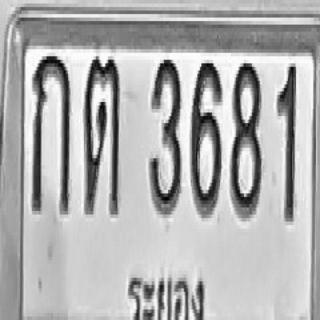A01: (31, 51, 70, 213)
A21: (83, 53, 119, 215)
N01: (276, 62, 296, 220)
N03: (149, 56, 181, 215)
N06: (190, 58, 222, 216)
N08: (229, 58, 261, 216)
P53: (123, 260, 209, 320)
